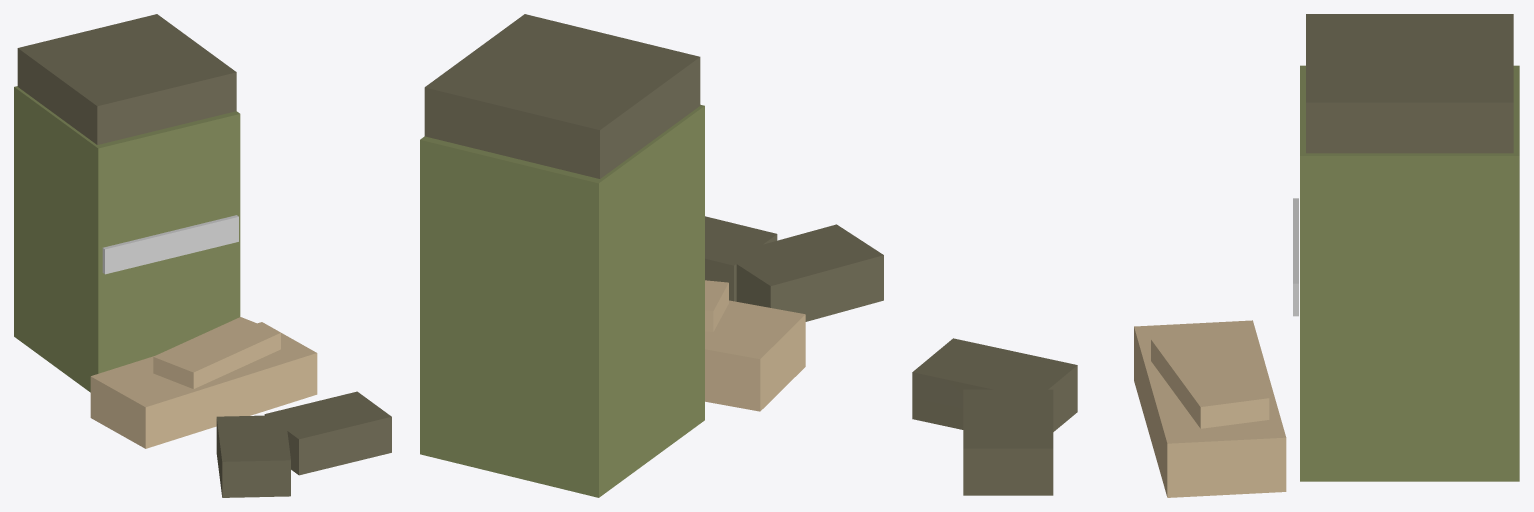
The model's file is SM_HescoCorto1_v3_RemateSacos_e1_Danado_LOD1.fbx.
The picture shows the model from 3 angles, left to right: view 1: azimuth 30°, elevation 25°; view 2: azimuth 150°, elevation 25°; view 3: azimuth 270°, elevation 25°; orthographic projection. The views are drawn at different scales.
Visible parts, largest first — view 1: SM_hesco_piezas_v53_LOD1; view 2: SM_hesco_piezas_v53_LOD1; view 3: SM_hesco_piezas_v53_LOD1.
Part boxes in pixels (x1,y1,x2,y2): SM_hesco_piezas_v53_LOD1: [14, 14, 391, 497]; SM_hesco_piezas_v53_LOD1: [420, 14, 883, 497]; SM_hesco_piezas_v53_LOD1: [912, 14, 1519, 497].
Size of the model in its own units: 1.46 by 2.09 by 3.04.
